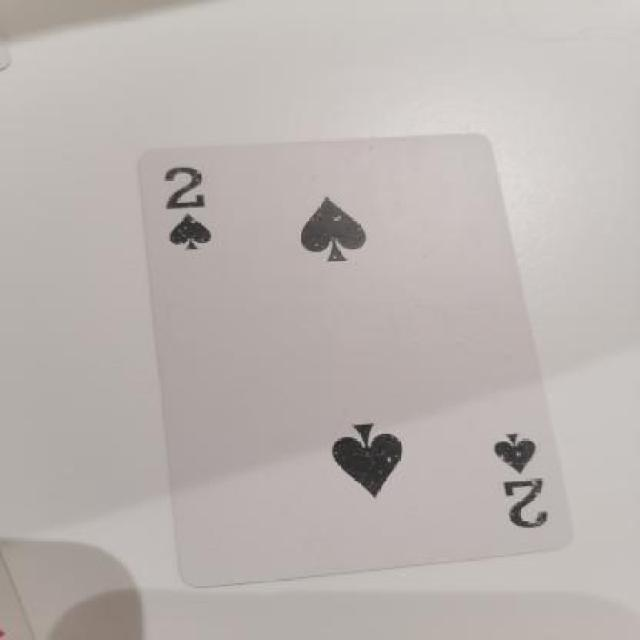2S: (156, 147, 232, 281), (480, 424, 555, 559)
